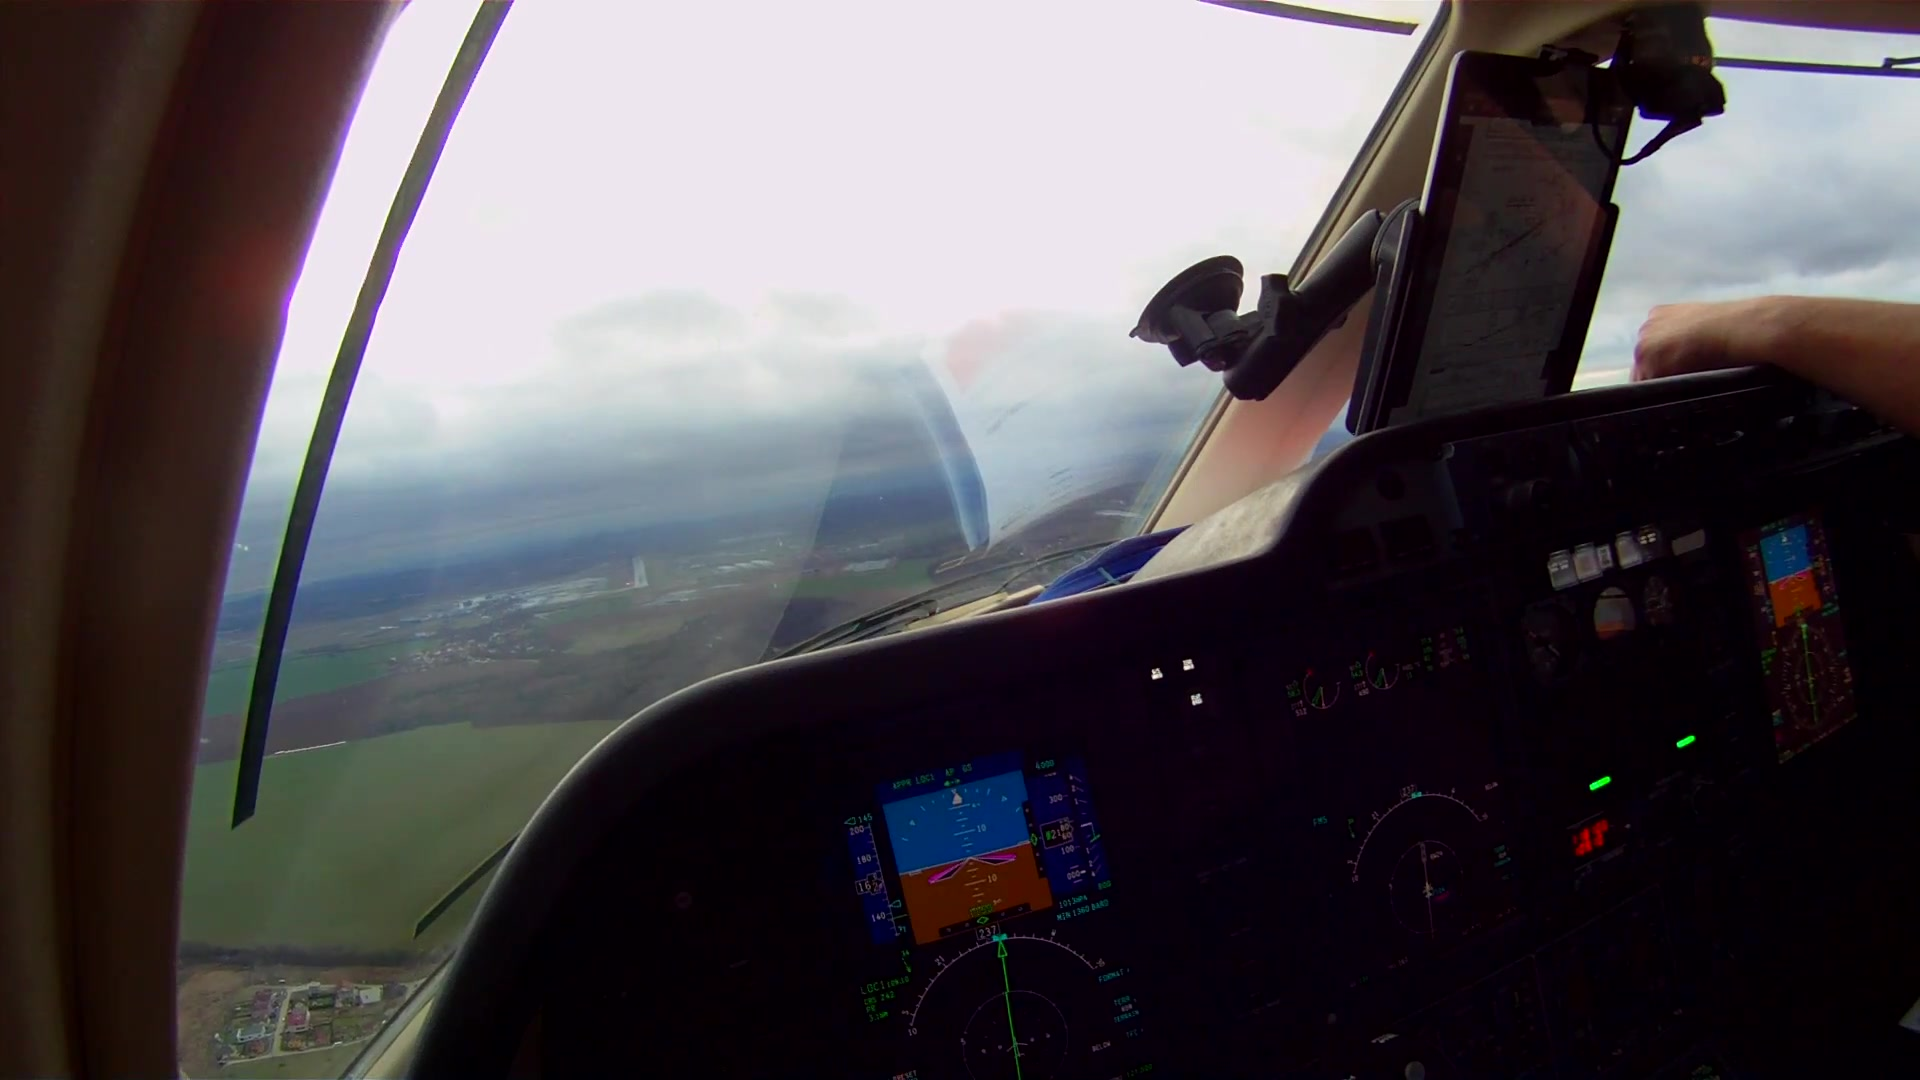runway: (629, 554, 651, 588)
